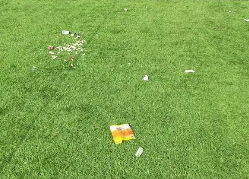garbage: (107, 122, 141, 147), (46, 42, 64, 59), (63, 52, 83, 66), (133, 146, 147, 159), (58, 27, 75, 37), (183, 68, 198, 77), (139, 74, 150, 83), (120, 6, 128, 14)
